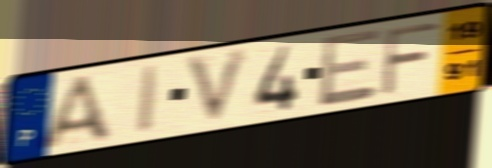4: (251, 42, 301, 115)
A: (36, 71, 117, 153)
E: (317, 25, 383, 110)
F: (378, 20, 443, 99)
I: (134, 61, 164, 137)
V: (183, 44, 254, 130)
